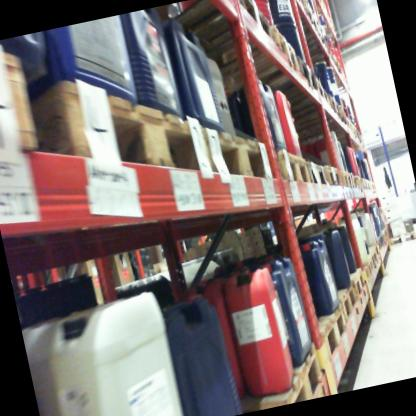pallet: (24, 34, 212, 218), (188, 15, 303, 110), (0, 32, 70, 161), (165, 0, 280, 71), (197, 112, 282, 201), (227, 51, 320, 117), (231, 352, 329, 413), (300, 305, 352, 367), (271, 138, 314, 199), (285, 11, 331, 66), (293, 101, 351, 139), (322, 277, 368, 324), (274, 81, 333, 117), (334, 265, 371, 310), (318, 155, 347, 198), (304, 148, 330, 195), (271, 0, 312, 23), (337, 160, 357, 193), (383, 225, 416, 245), (363, 243, 385, 271), (352, 257, 377, 281), (352, 167, 366, 196), (332, 107, 340, 116)
